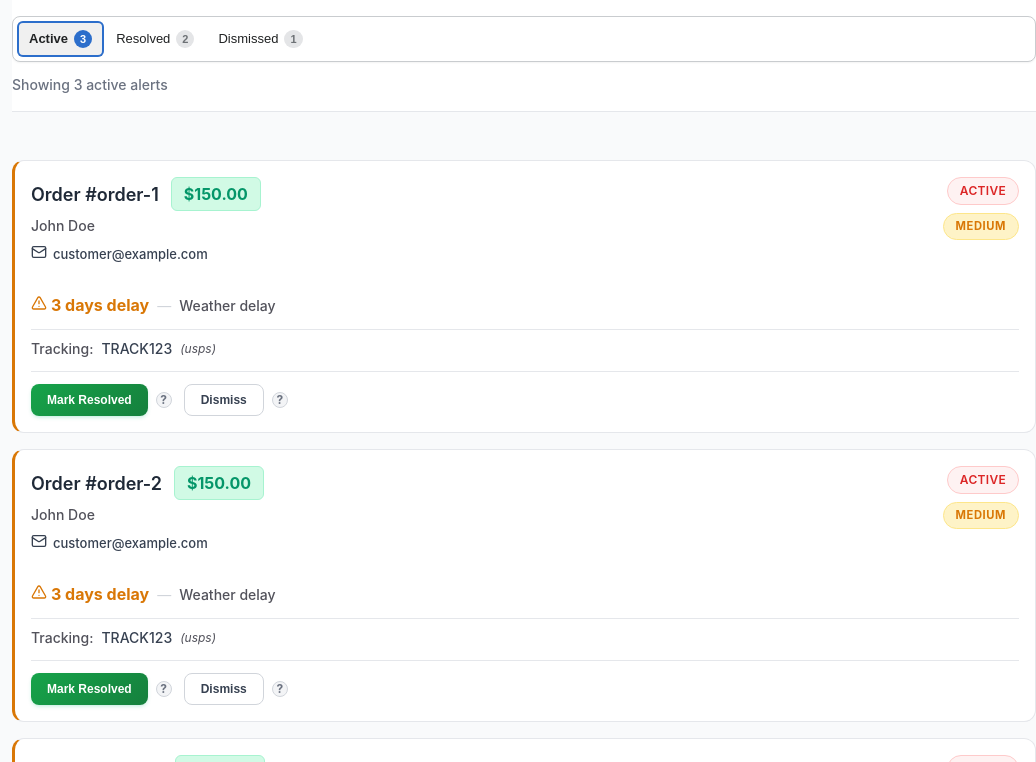
Test: AlertsTab Component › Filter Summary Text › should update summary when switching tabs
Expected: the text "Showing 3 active alerts" is shown, [12,76,168,93]
Click Resolved tab
Click the text "Resolved".
click(143, 39)  # box [116,29,170,49]
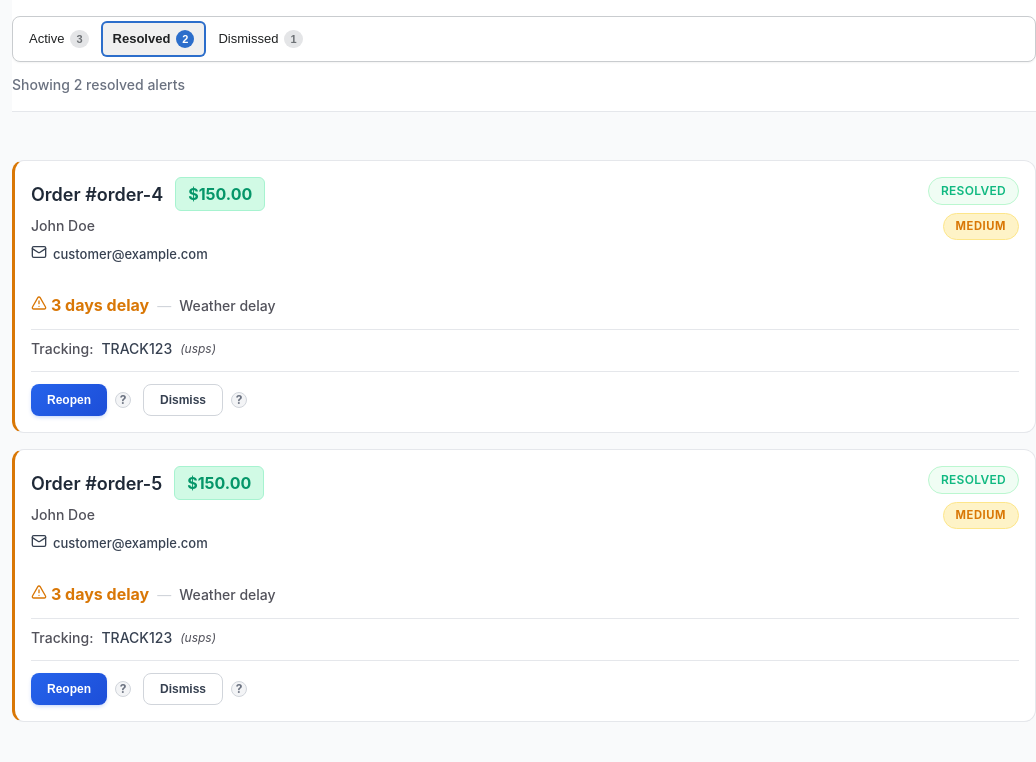
Expected: the text "Showing 2 resolved alerts" is shown, [12,76,185,93]
Click Dismissed tab
Click the text "Dismissed".
click(248, 39)  # box [218,29,278,49]
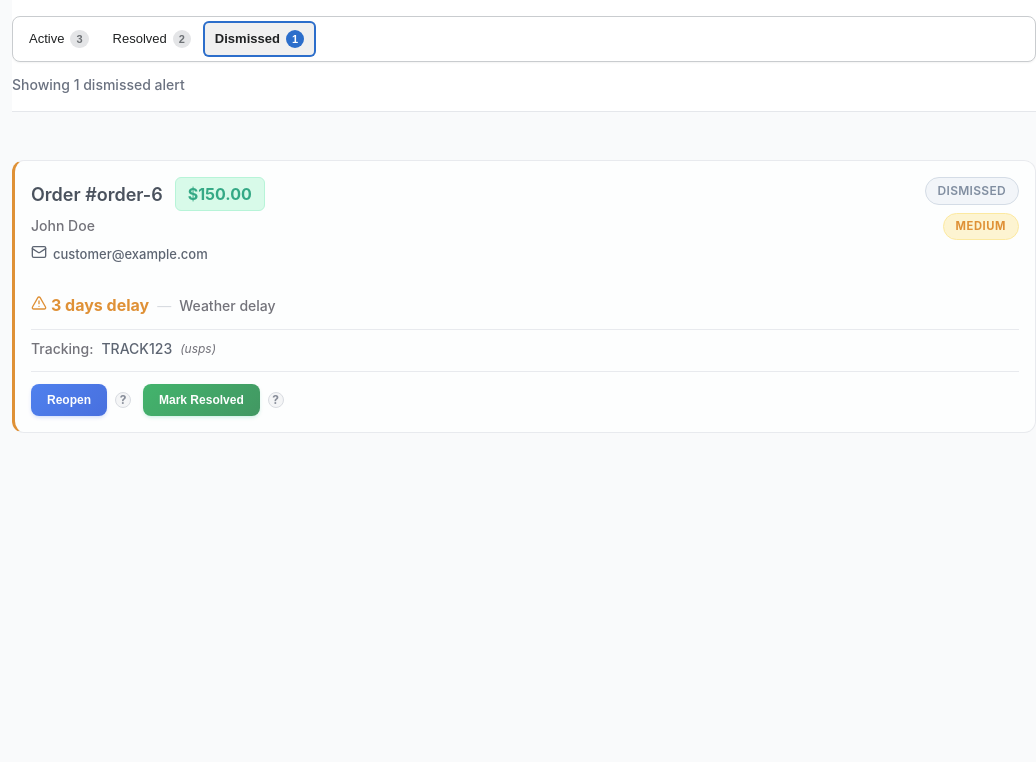
Expected: the text "Showing 1 dismissed alert" is shown, [12,76,185,93]
